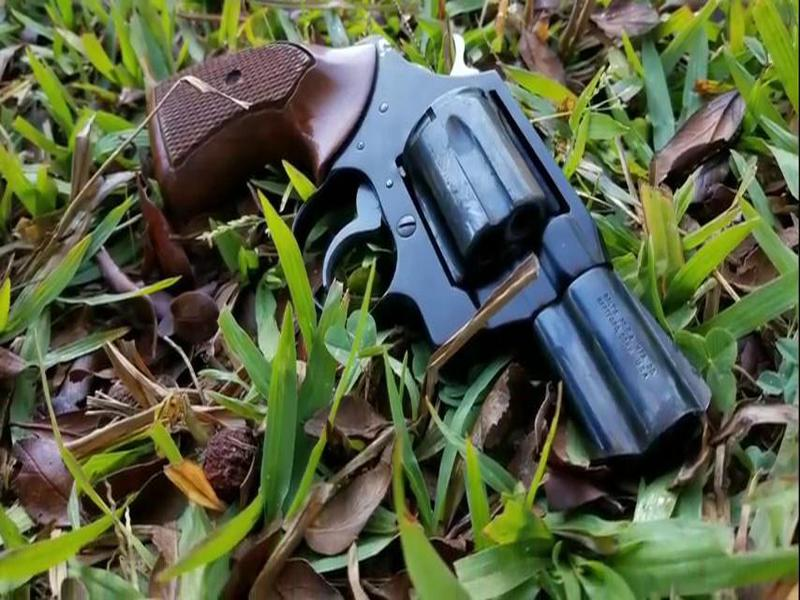Revolver: (131, 49, 738, 475)
